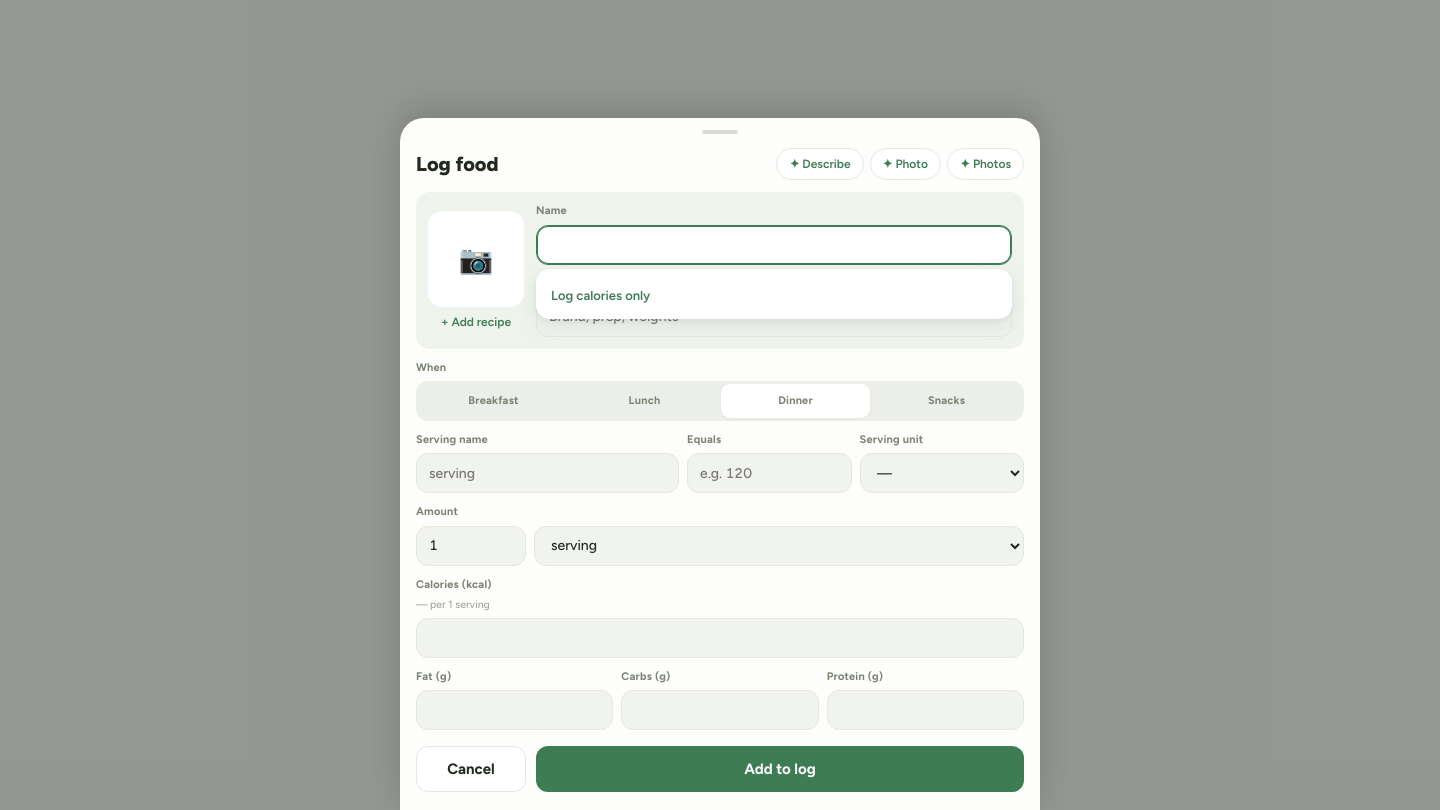
Test case: EntryForm name search ordering › closes the dropdown and drops focus after tapping a food, and does not reopen it
Type "chick" into the dropdown labelled "Name" at (774, 245), box [536, 225, 1012, 265]
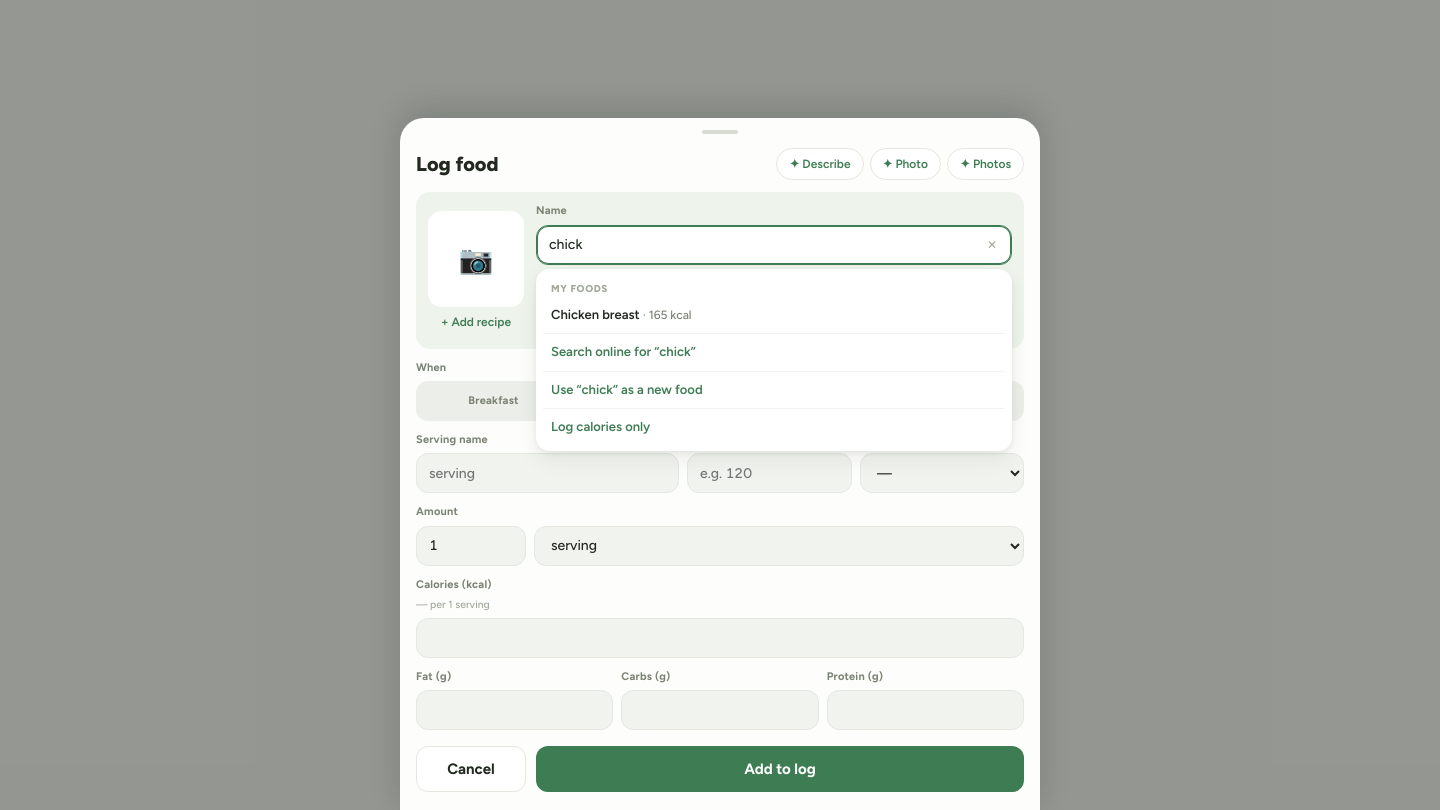
Click the option "Chicken breast · 165 kcal" at (621, 314), box [551, 307, 692, 322]
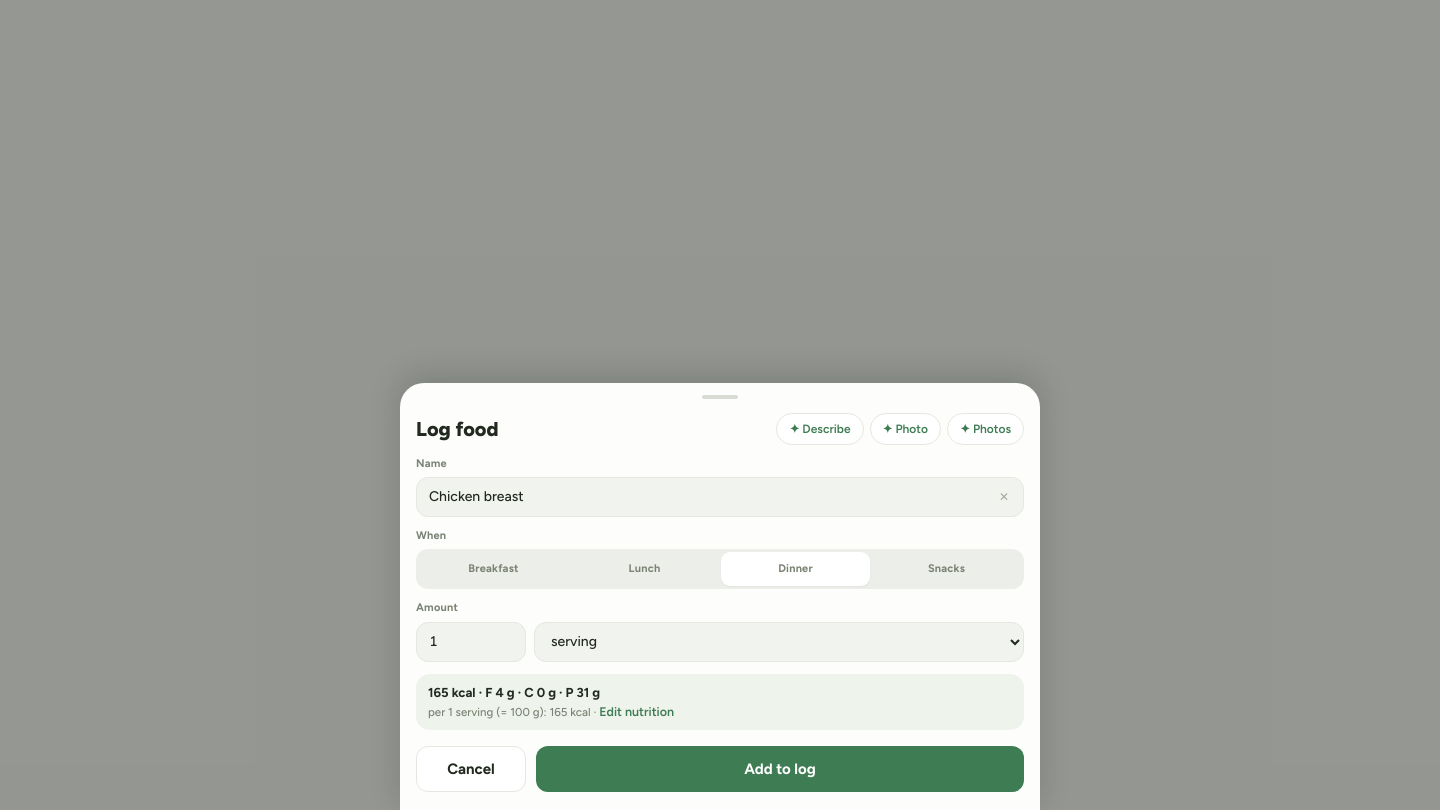
Expected: the list is gone
